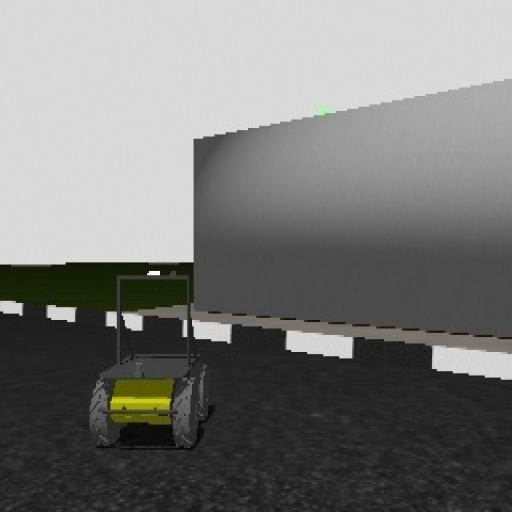huskya200: (76, 266, 214, 466)
